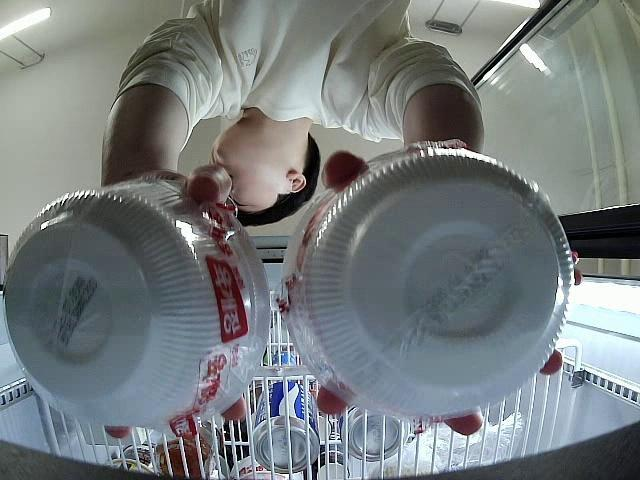09_yukGaeJang: (278, 147, 574, 420), (5, 167, 268, 430)
